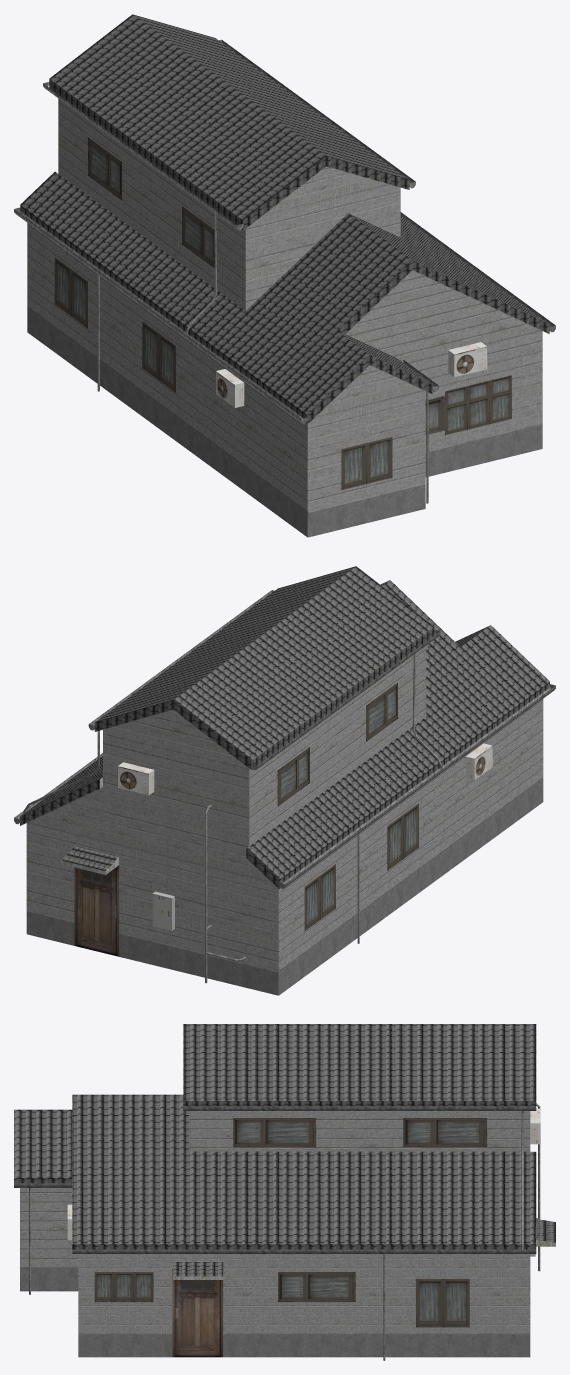
The model's file is japanese_house.glb.
The picture shows the model from 3 angles, top to bottom: view 1: azimuth 30°, elevation 25°; view 2: azimuth 150°, elevation 25°; view 3: azimuth 270°, elevation 25°; orthographic projection. The views are drawn at different scales.
Visible parts, largest first — view 1: PSX Japanese House, AC; view 2: PSX Japanese House, AC; view 3: PSX Japanese House, AC.
Boxes of the visible parts, box(x1,y1,x2,y2) form: PSX Japanese House: box(14, 14, 555, 537); AC: box(216, 342, 487, 407); PSX Japanese House: box(14, 566, 555, 995); AC: box(118, 743, 492, 795); PSX Japanese House: box(14, 1024, 555, 1360); AC: box(67, 1108, 540, 1240).
Bounding box in the file's own units: 5.31 × 4.86 × 9.08.
2 materials, 2 textured.
